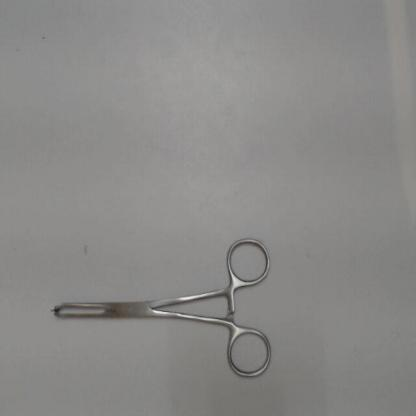Allis Tissue Forceps: (45, 225, 277, 389)
